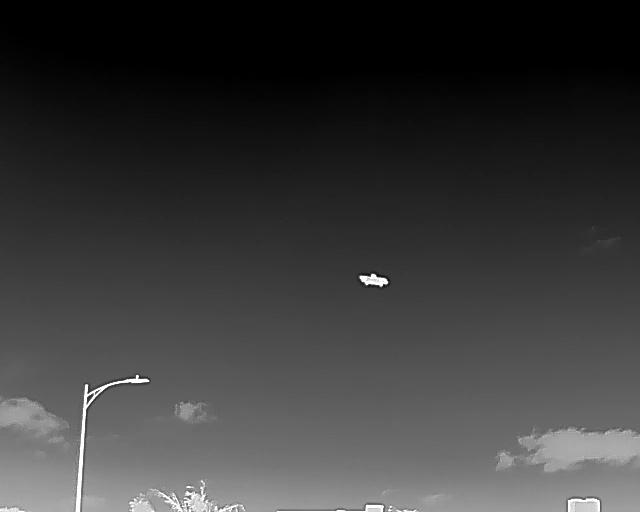fpv-drone: (358, 273, 388, 287)
